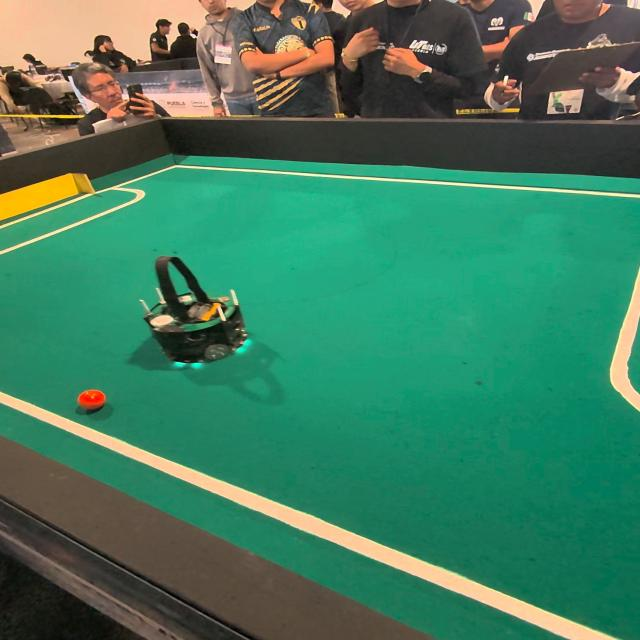Robot: (136, 244, 257, 382)
pelota: (79, 391, 108, 414)
